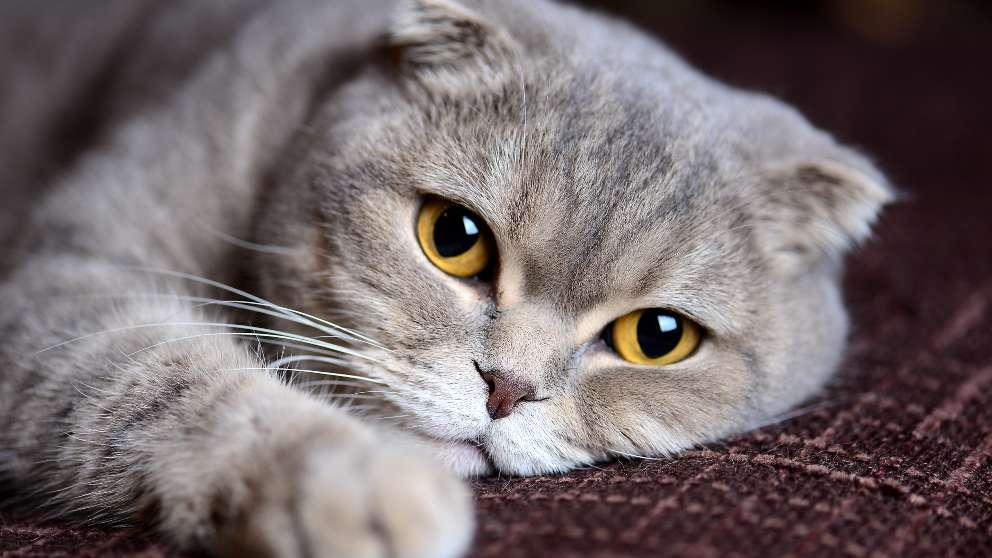Gato: (221, 12, 889, 484)
